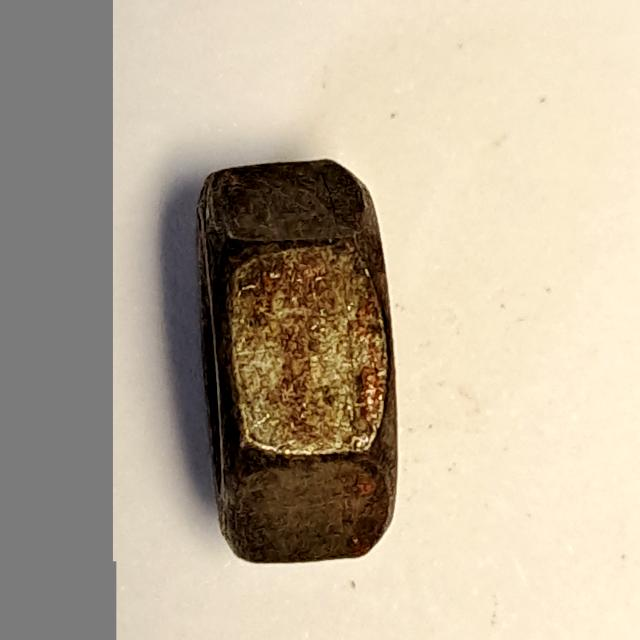Side_Rust: (179, 149, 412, 578)
